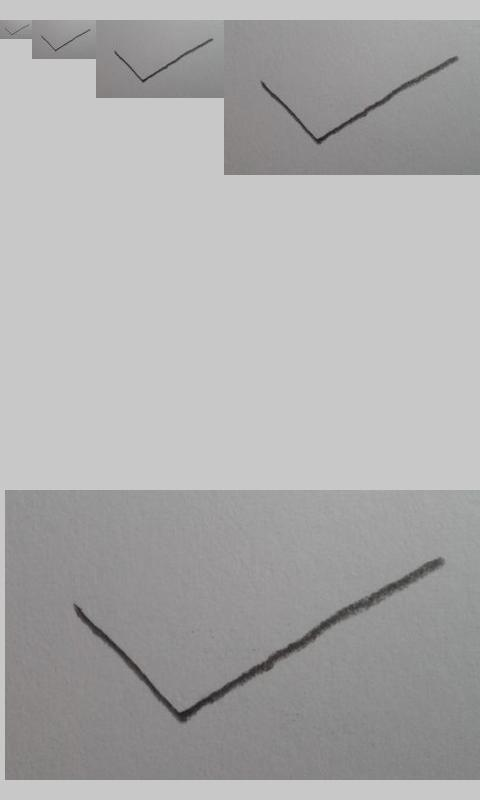check_box: (73, 558, 442, 724), (261, 57, 457, 144), (114, 39, 213, 83), (41, 29, 90, 52), (4, 24, 29, 36)
